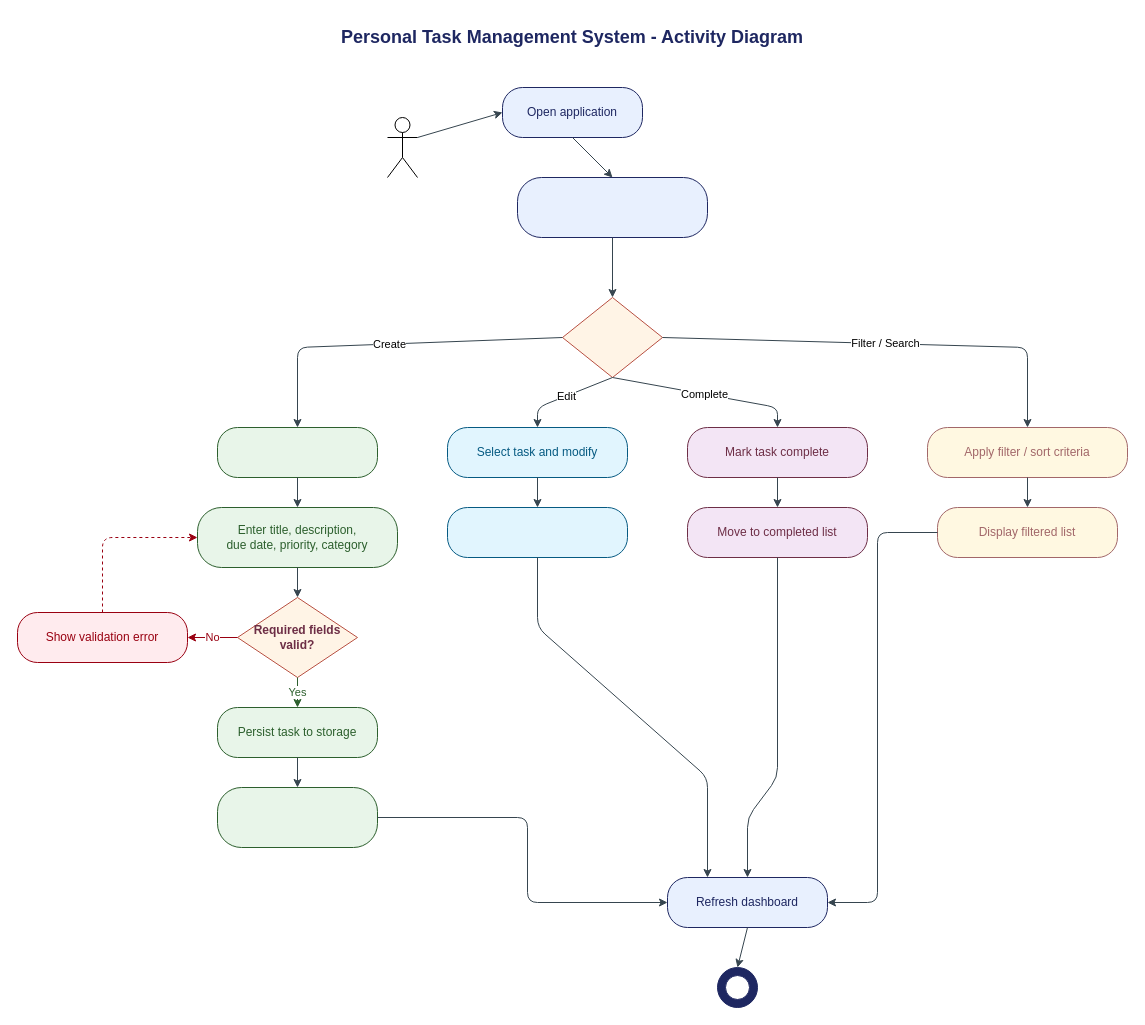
The diagram is 1145 pixels wide and 1025 high, and some of its shapes have lost their labels. The box of each missing label's shape, as (x1, y1, x2, y2) in pixels:
Actor: (386, 116, 418, 178)
Dashboard loads pending, completed, and overdue tasks: (516, 176, 708, 238)
Open task form: (216, 426, 378, 478)
Schedule reminder (if due date set): (216, 786, 378, 848)
Update stored record: (446, 506, 628, 558)
User action?: (562, 296, 662, 378)
